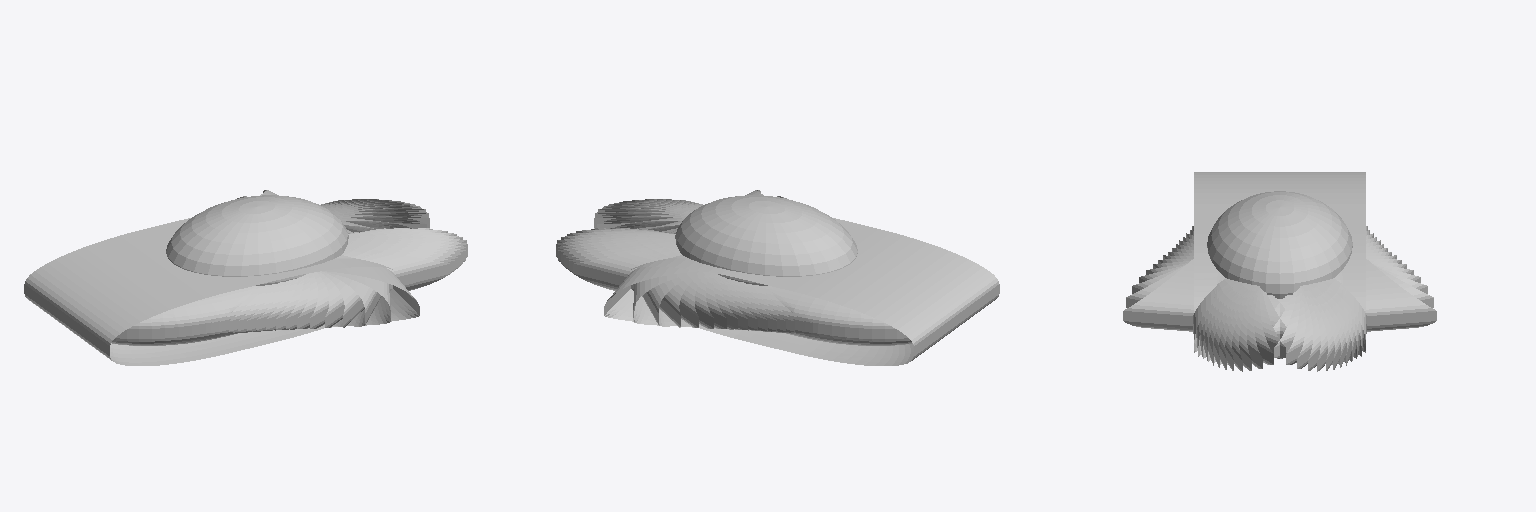
File: car.obj
3 views of the same model, side by side, from view 1: azimuth 30°, elevation 25°; view 2: azimuth 150°, elevation 25°; view 3: azimuth 270°, elevation 25° (orthographic).
Parts seen in each view (by area): view 1: Cube, Sphere; view 2: Cube, Sphere; view 3: Cube, Sphere.
Part boxes in pixels (x1,y1,x2,y2): Cube: (24, 190, 467, 365); Sphere: (166, 195, 348, 285); Cube: (556, 190, 999, 365); Sphere: (675, 195, 857, 285); Cube: (1123, 172, 1436, 371); Sphere: (1207, 191, 1352, 298).
Size of the model in its own units: 3.72 by 0.9261 by 2.68.